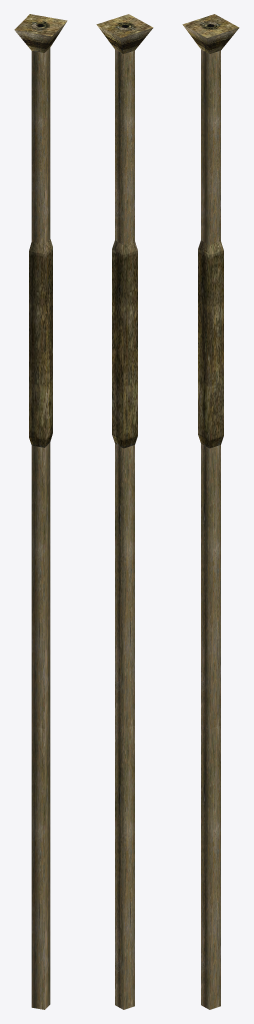
The model's file is frn_all_glow_light_s1_l1.fbx.
3 views of the same model, side by side, from view 1: azimuth 90°, elevation 25°; view 2: azimuth 150°, elevation 25°; view 3: azimuth 330°, elevation 25° (orthographic).
Parts seen in each view (by area): view 1: mesh_node; view 2: mesh_node; view 3: mesh_node.
Boxes of the visible parts, bbox=[...] form: mesh_node: bbox=[14, 14, 67, 1009]; mesh_node: bbox=[96, 14, 153, 1009]; mesh_node: bbox=[182, 14, 239, 1009].
Size of the model in its own units: 0.1184 by 2.4 by 0.1184.
1 material, 1 textured.
